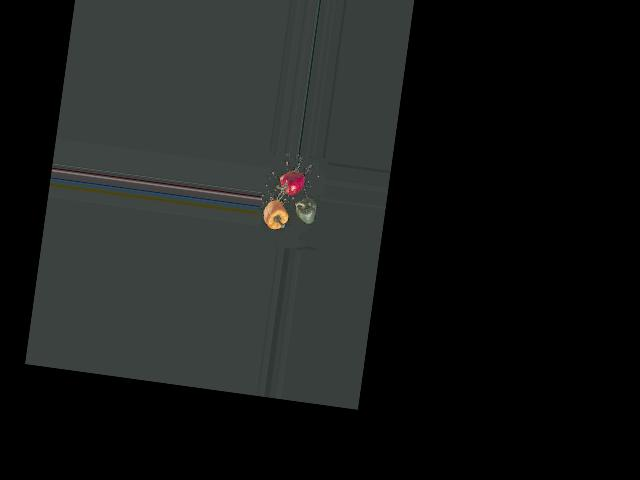bell_pepper: (271, 167, 311, 201)
